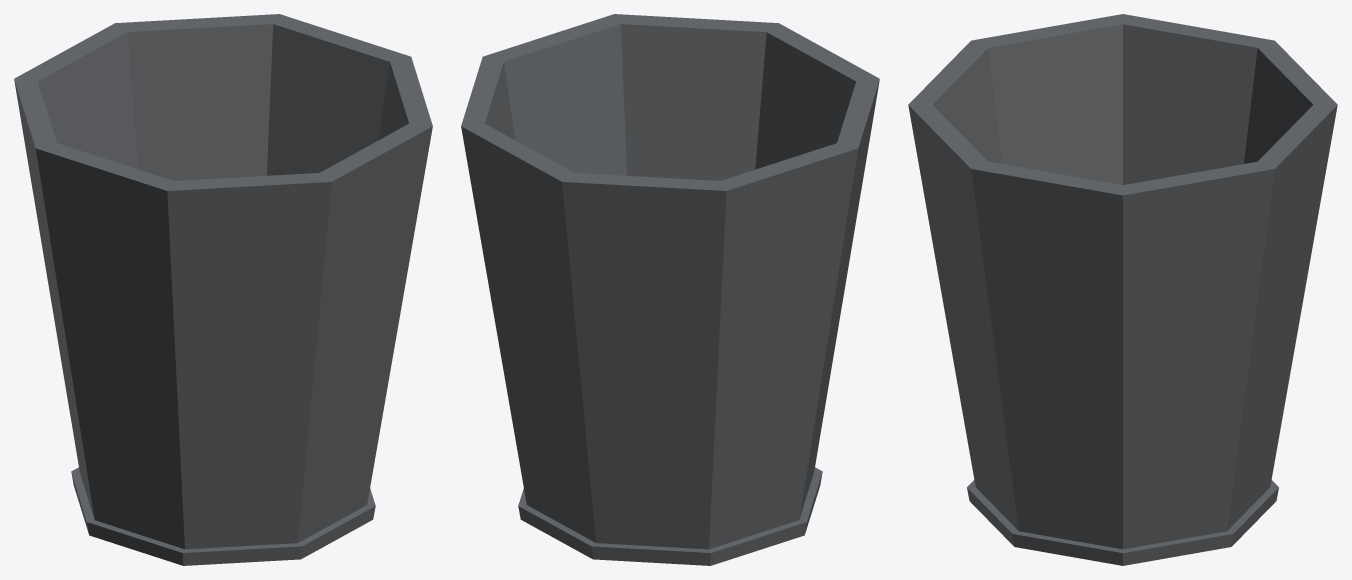
File: Bin_03.fbx
3 views of the same model, side by side, from view 1: azimuth 30°, elevation 25°; view 2: azimuth 150°, elevation 25°; view 3: azimuth 270°, elevation 25° (orthographic).
Parts seen in each view (by area): view 1: Bin_03; view 2: Bin_03; view 3: Bin_03.
Boxes of the visible parts, box(x1,y1,x2,y2) form: Bin_03: box(14, 14, 432, 565); Bin_03: box(461, 14, 879, 565); Bin_03: box(908, 14, 1337, 565).
Size of the model in its own units: 0.2992 by 0.3046 by 0.2992.
